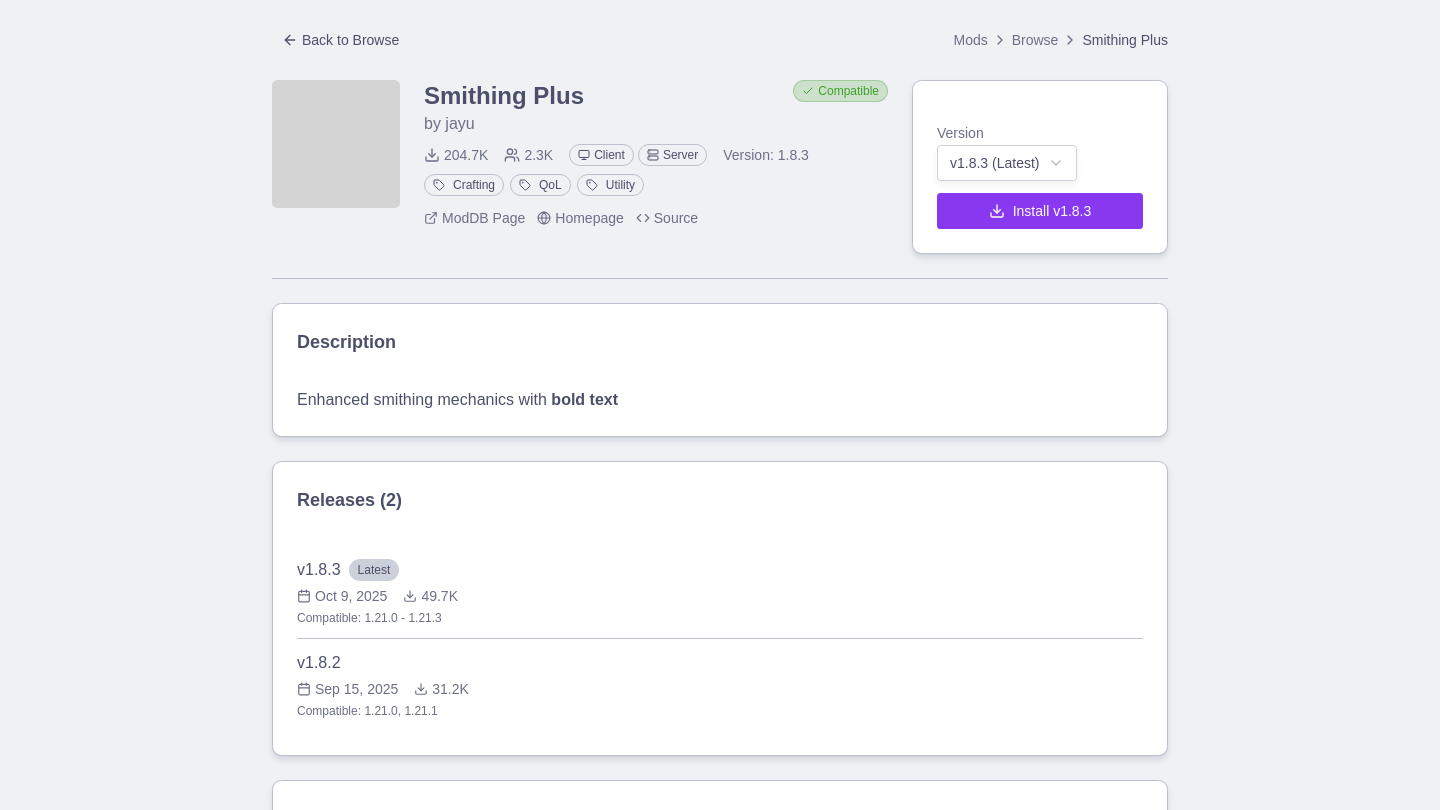
ModDetailPage › install/update section (Task 3) › confirmation dialog (Story 10.8) › dialog closes when Cancel is clicked
Step 1. Click the button with test id "mod-detail-install-button" → x=1040, y=211, box [937,193,1143,229]
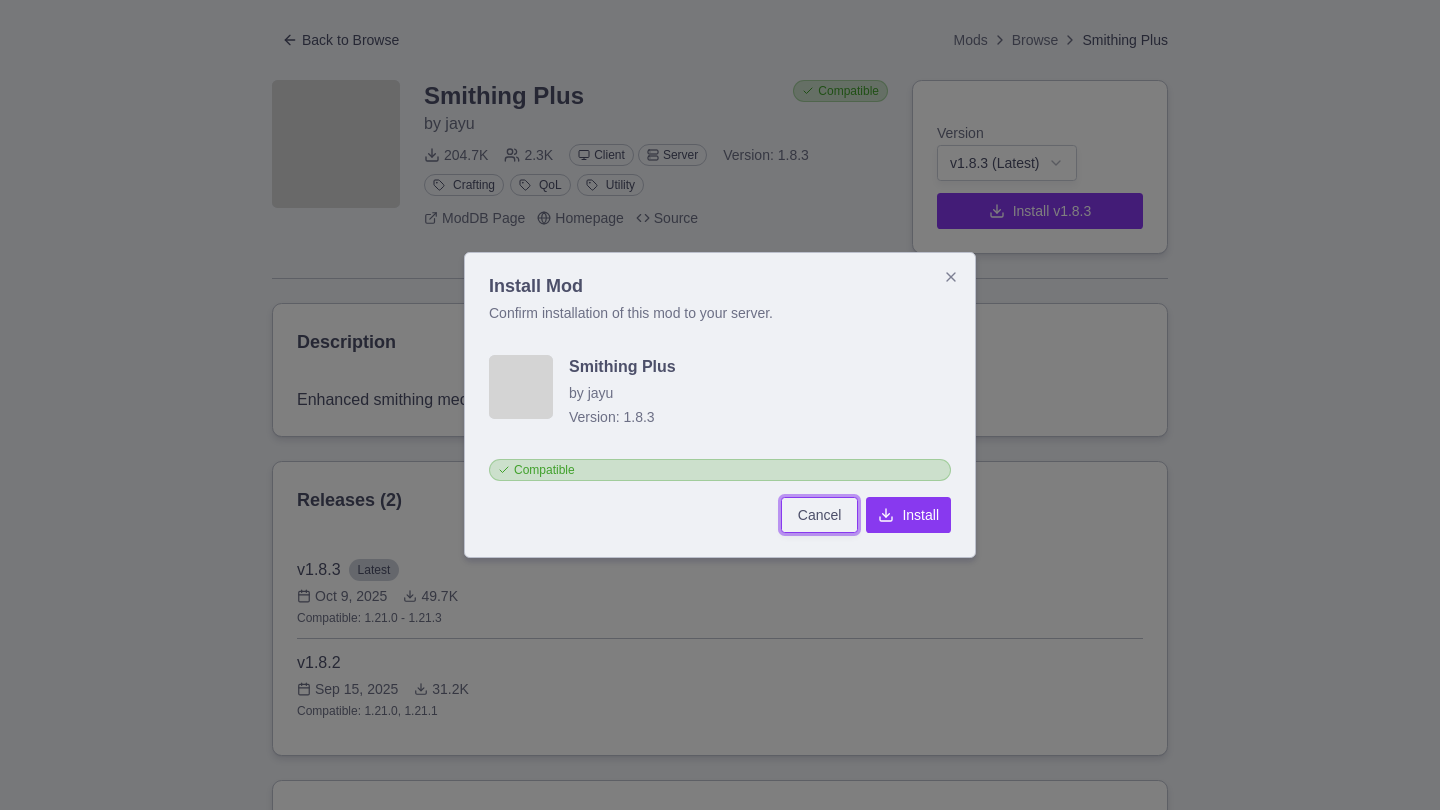
Expected: the dialog with test id "install-confirm-dialog" is shown, [464,252,976,558]
Note: Click cancel
Step 2. Click the button with test id "install-dialog-cancel" → x=820, y=515, box [781,497,858,533]
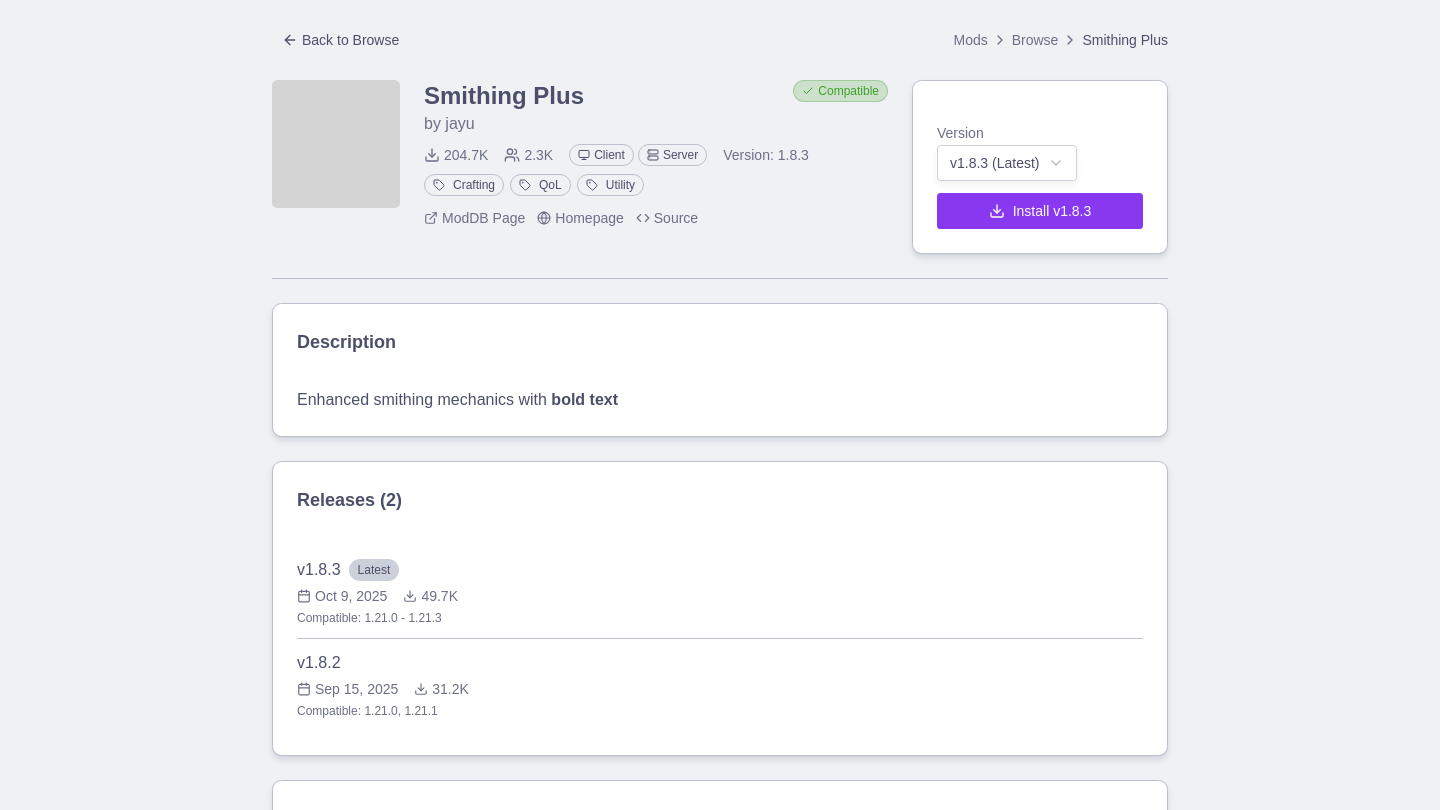
Expected: the dialog with test id "install-confirm-dialog" is gone
